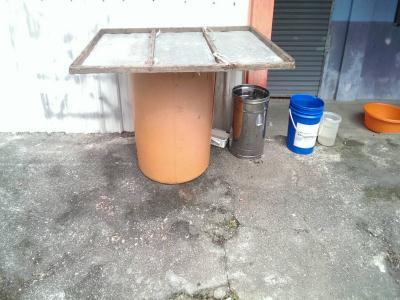bowl: (359, 102, 400, 134)
box: (211, 126, 231, 150)
bucket: (132, 71, 216, 185), (229, 84, 271, 160), (284, 92, 326, 158), (317, 109, 342, 149)
